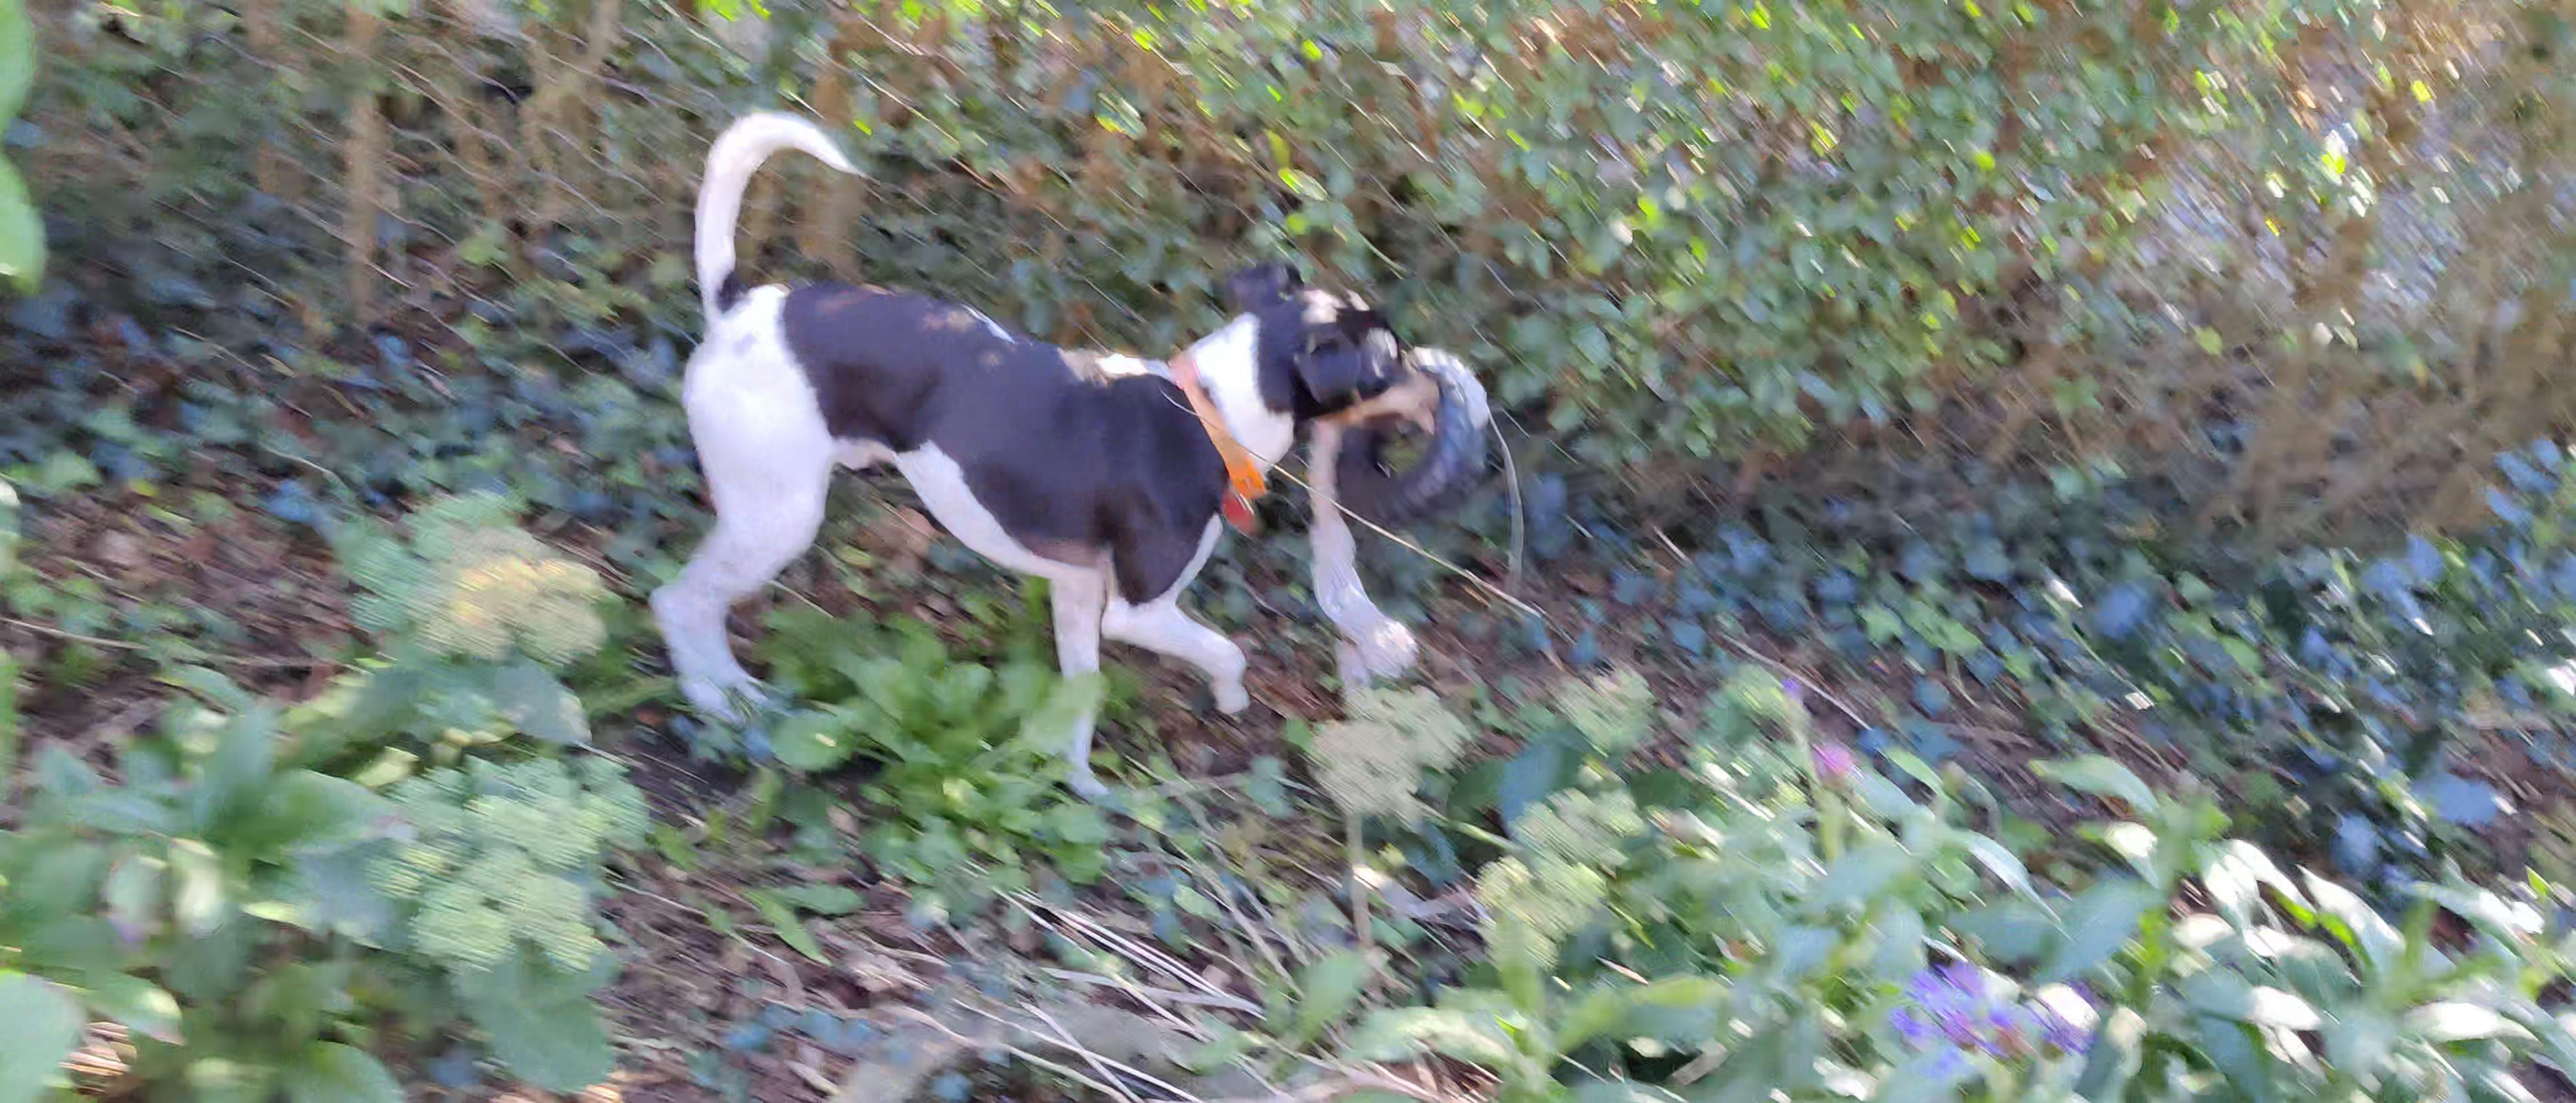Dog: (641, 102, 1439, 810)
